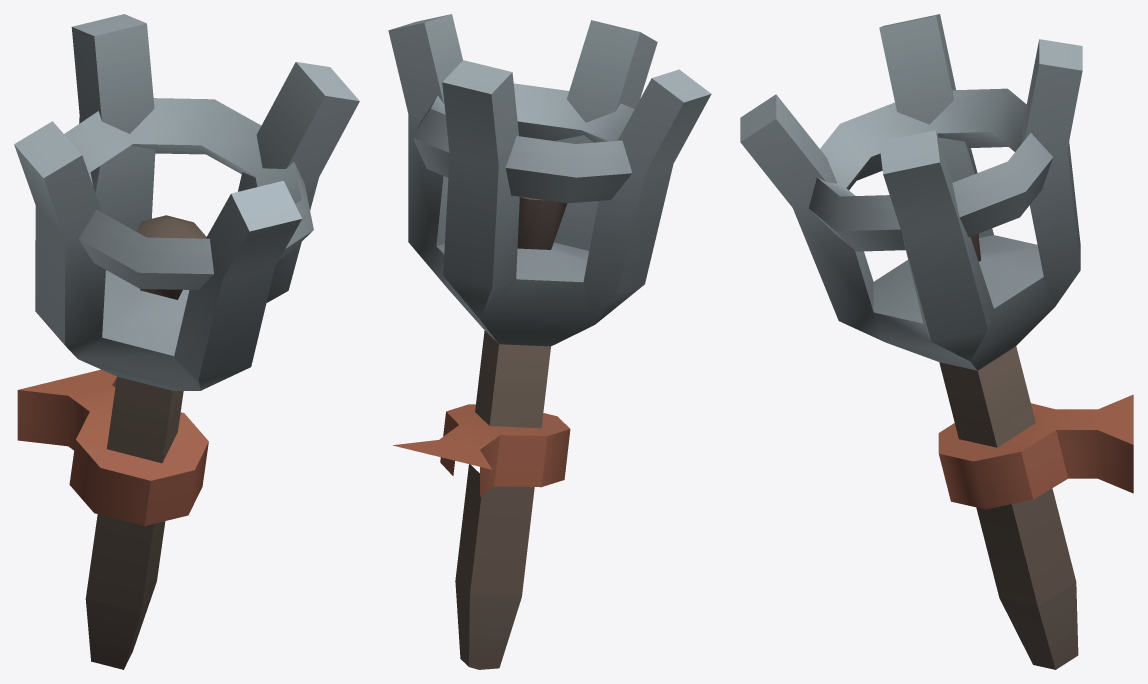
Rendered from torch_mounted.gltf.glb.
3 renders of one model, left to right at view 1: azimuth 30°, elevation 25°; view 2: azimuth 150°, elevation 25°; view 3: azimuth 270°, elevation 25°, orthographic. The views are drawn at different scales.
Visible parts, largest first — view 1: torch_mounted; view 2: torch_mounted; view 3: torch_mounted.
Boxes of the visible parts, <box> form: torch_mounted: <box>14,14,359,669</box>; torch_mounted: <box>388,14,711,669</box>; torch_mounted: <box>740,14,1133,669</box>.
Size of the model in its own units: 0.5503 by 1.06 by 0.6159.
1 material, 1 textured.
